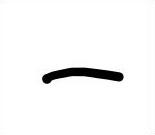minus: (41, 66, 124, 84)
